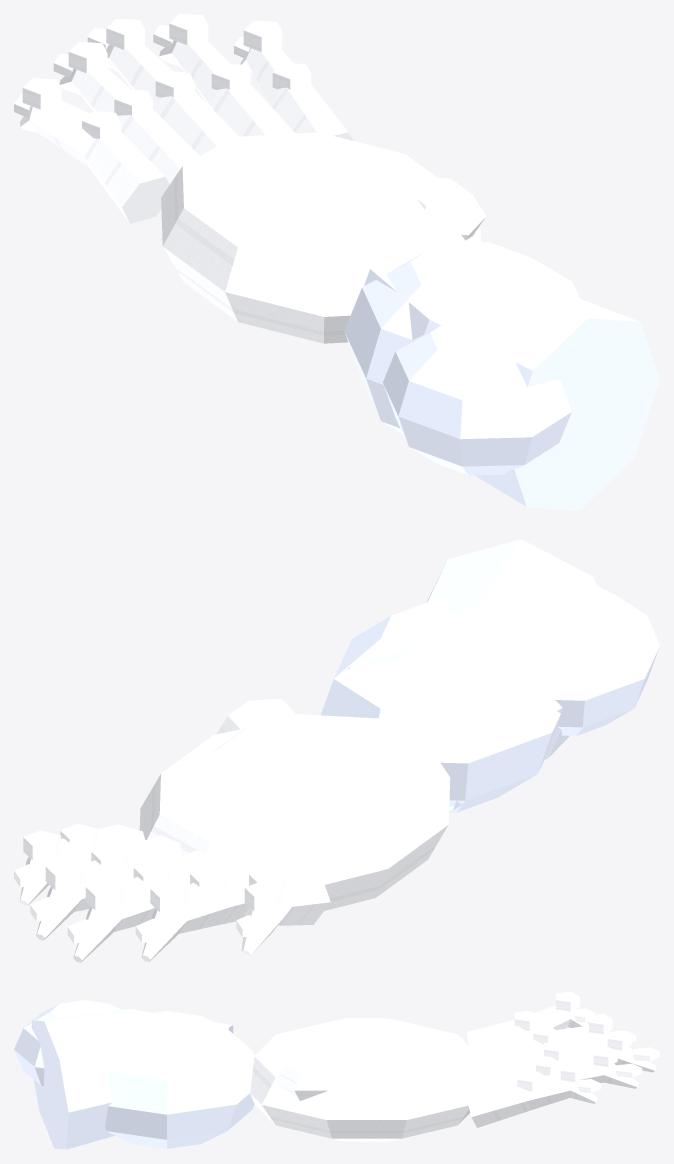
The model's file is ban-tay-ma.glb.
3 views of the same model, one above another, from view 1: azimuth 30°, elevation 25°; view 2: azimuth 150°, elevation 25°; view 3: azimuth 270°, elevation 25° (orthographic). The views are drawn at different scales.
Parts seen in each view (by area): view 1: Palm, WristSmokeTube, WristSmoke_1, WristSmoke_0, Finger_0, Finger_2, Finger_3, Finger_1, Finger_4, Thenar, Knuckle_0_1, Knuckle_4_1 (+8 smaller); view 2: Palm, WristSmoke_0, WristSmokeTube, WristSmoke_1, Finger_1, Finger_2, Finger_3, Finger_0, Finger_4, Thenar, Knuckle_0_1, Knuckle_2_1 (+11 smaller); view 3: Palm, WristSmoke_0, WristSmokeTube, Finger_4, WristSmoke_1, Finger_2, Thenar, Finger_1, Finger_3, Finger_0, Knuckle_4_1, Knuckle_3_1 (+11 smaller).
Boxes of the visible parts, left/top/right/bottom form: Palm: left=161, top=132, right=480, bottom=343; WristSmokeTube: left=364, top=233, right=659, bottom=510; WristSmoke_1: left=383, top=322, right=571, bottom=475; WristSmoke_0: left=344, top=242, right=579, bottom=433; Finger_0: left=20, top=100, right=169, bottom=223; Finger_2: left=106, top=44, right=238, bottom=155; Finger_3: left=159, top=39, right=295, bottom=136; Finger_1: left=59, top=67, right=199, bottom=184; Finger_4: left=240, top=47, right=353, bottom=140; Thenar: left=412, top=176, right=486, bottom=240; Knuckle_0_1: left=22, top=78, right=61, bottom=109; Knuckle_4_1: left=243, top=21, right=282, bottom=51; Palm: left=139, top=714, right=450, bottom=910; WristSmoke_0: left=321, top=600, right=560, bottom=812; WristSmokeTube: left=347, top=539, right=596, bottom=810; WristSmoke_1: left=547, top=584, right=659, bottom=735; Finger_1: left=141, top=859, right=279, bottom=961; Finger_2: left=73, top=850, right=225, bottom=962; Finger_3: left=36, top=835, right=181, bottom=940; Finger_0: left=241, top=868, right=330, bottom=955; Finger_4: left=19, top=824, right=145, bottom=905; Thenar: left=216, top=698, right=295, bottom=734; Knuckle_0_1: left=244, top=881, right=282, bottom=911; Knuckle_2_1: left=85, top=880, right=123, bottom=910; Palm: left=250, top=1018, right=483, bottom=1141; WristSmoke_0: left=105, top=1011, right=254, bottom=1148; WristSmokeTube: left=31, top=1009, right=233, bottom=1149; Finger_4: left=466, top=1073, right=597, bottom=1127; WristSmoke_1: left=14, top=1000, right=120, bottom=1086; Finger_2: left=480, top=1041, right=656, bottom=1072; Thenar: left=275, top=1059, right=341, bottom=1100; Finger_1: left=469, top=1025, right=631, bottom=1058; Finger_3: left=468, top=1058, right=638, bottom=1088; Finger_0: left=466, top=1005, right=588, bottom=1045; Knuckle_4_1: left=560, top=1062, right=584, bottom=1082; Knuckle_3_1: left=593, top=1047, right=617, bottom=1066.
Size of the model in its own units: 0.1708 by 0.1199 by 0.5494.
2 materials, 2 textured.
